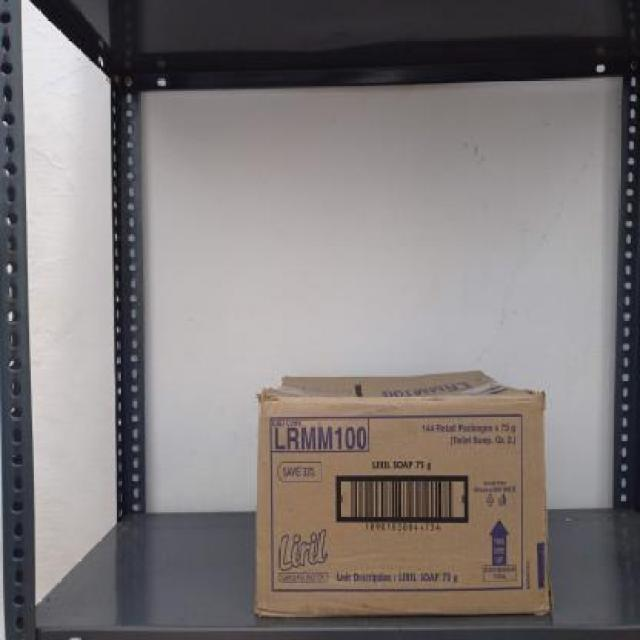box: (256, 393, 552, 615)
